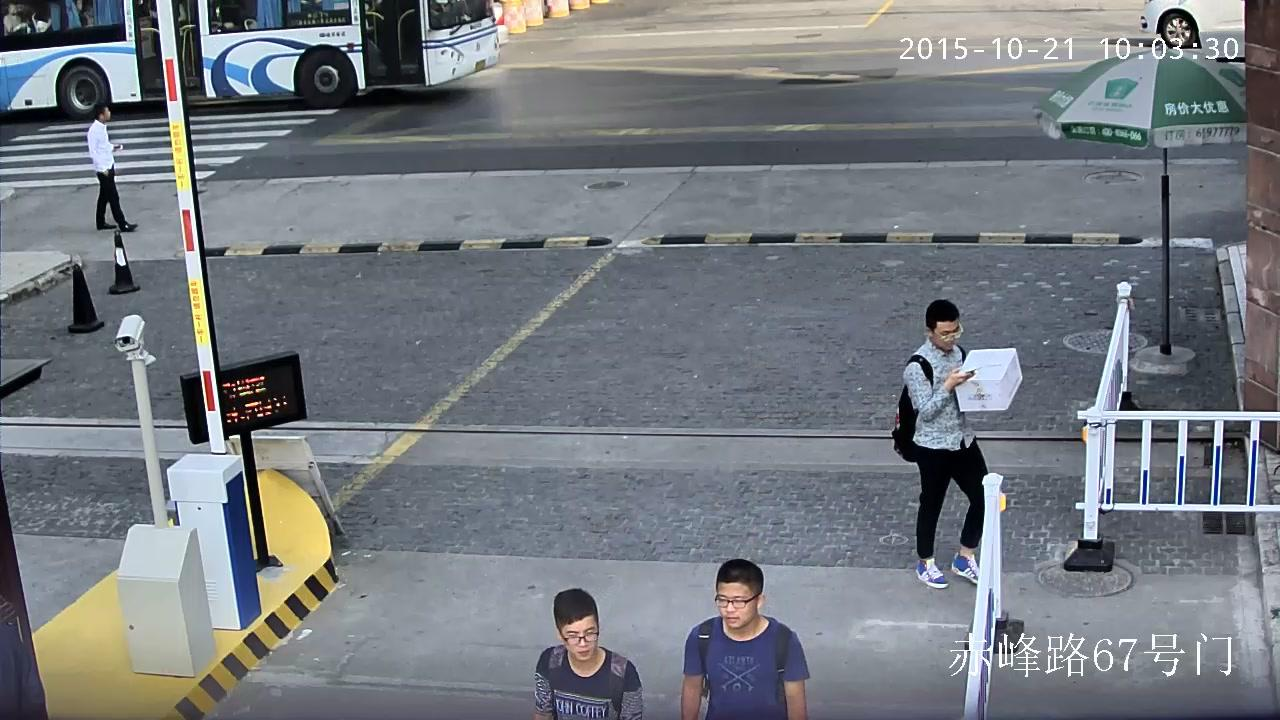person: (890, 298, 1021, 589), (890, 298, 988, 587), (680, 559, 808, 720), (533, 589, 645, 720), (87, 102, 138, 230)
